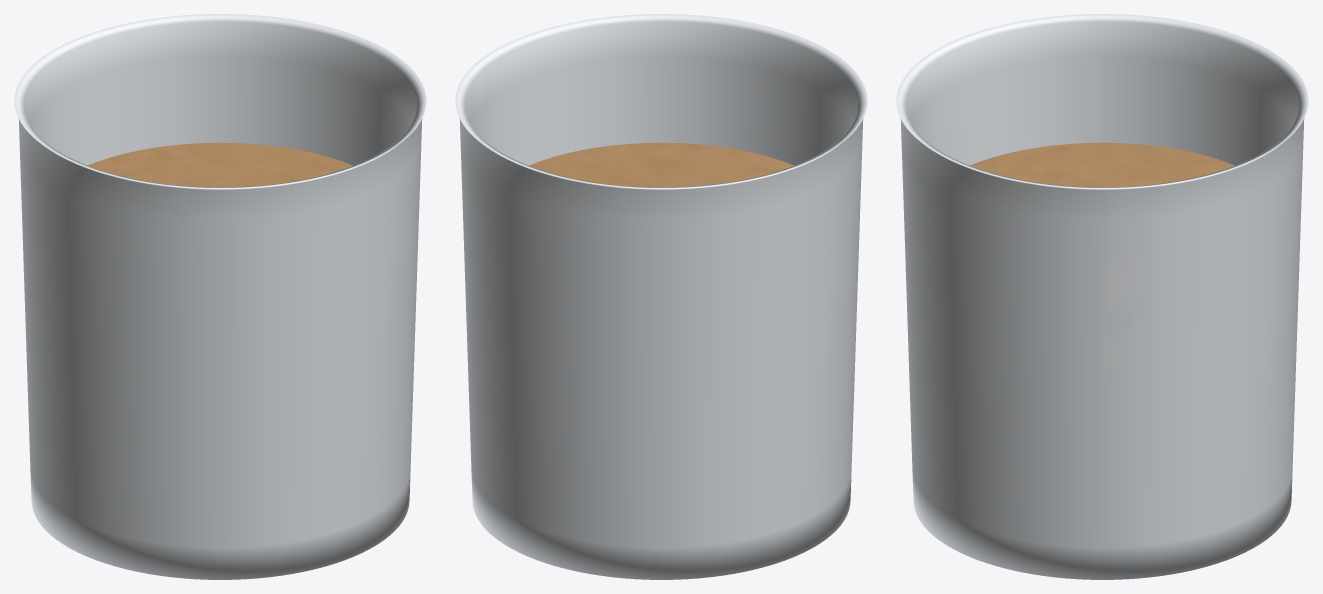
Rendered from shakerato.glb.
3 renders of one model, left to right at view 1: azimuth 30°, elevation 25°; view 2: azimuth 150°, elevation 25°; view 3: azimuth 270°, elevation 25°, orthographic.
Visible parts, largest first — view 1: clear, satin; view 2: clear, satin; view 3: clear, satin.
Part boxes in pixels (x1=…): clear: x1=14, y1=14, x2=426, y2=579; satin: x1=88, y1=142, x2=352, y2=187; clear: x1=455, y1=14, x2=867, y2=579; satin: x1=529, y1=142, x2=793, y2=187; clear: x1=896, y1=14, x2=1308, y2=579; satin: x1=970, y1=142, x2=1234, y2=187.
Size of the model in its own units: 0.085 by 0.0908 by 0.085.
Materials: 2 (2 with a texture image).
